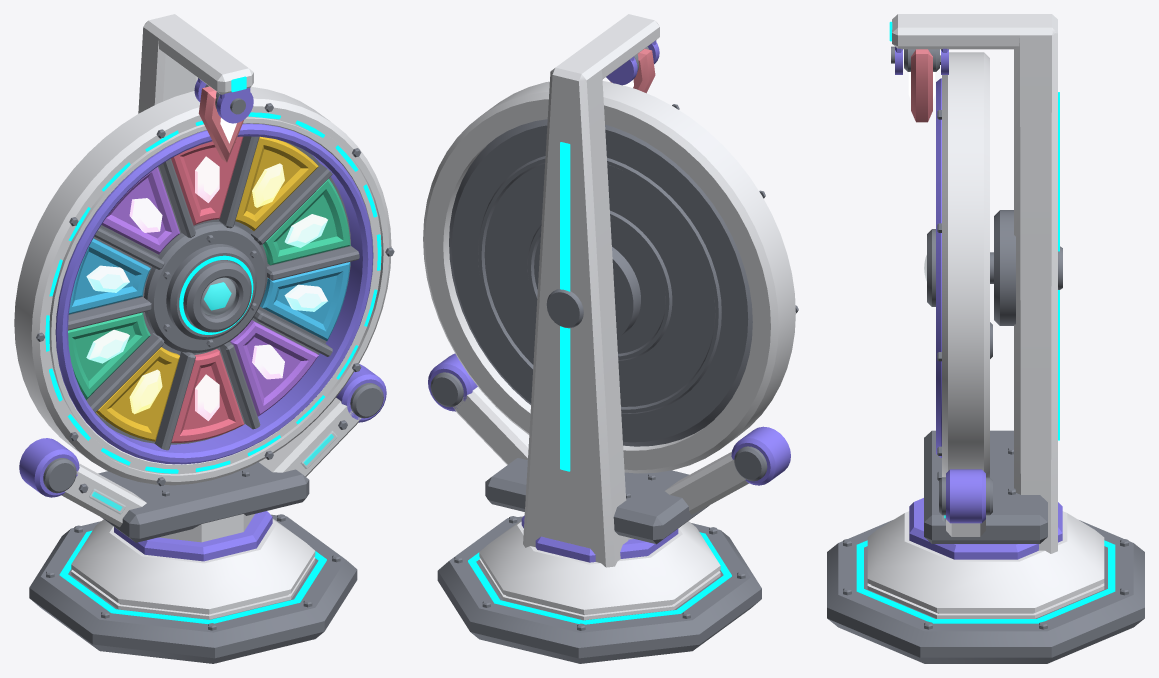
Rendered from PrizeWheel.glb.
The picture shows the model from 3 angles, left to right: view 1: azimuth 30°, elevation 25°; view 2: azimuth 150°, elevation 25°; view 3: azimuth 270°, elevation 25°; orthographic projection. The views are drawn at different scales.
Parts seen in each view (by area): view 1: Wheel_Rim, Base_Body, Wheel_Frame, Base_Metal, Wheel_Accent, Base_Accent, Wheel_LED, Segment_05, Segment_04, Segment_06, Segment_03, Segment_07 (+19 smaller); view 2: Base_Body, Wheel_Frame, Wheel_Rim, Base_Metal, Base_LED, Base_Accent, Pointer_Body; view 3: Base_Body, Base_Metal, Wheel_Rim, Base_Accent, Base_LED, Wheel_Accent, Pointer_Body, Wheel_Frame.
Part boxes in pixels (left/top/right/bottom): Wheel_Rim: left=14, top=86, right=391, bottom=485; Base_Body: left=61, top=14, right=361, bottom=619; Wheel_Frame: left=36, top=103, right=394, bottom=486; Base_Metal: left=29, top=98, right=383, bottom=663; Wheel_Accent: left=55, top=123, right=373, bottom=464; Base_Accent: left=19, top=78, right=386, bottom=561; Wheel_LED: left=45, top=112, right=381, bottom=473; Segment_05: left=230, top=320, right=318, bottom=416; Segment_04: left=260, top=262, right=350, bottom=340; Segment_06: left=171, top=349, right=244, bottom=442; Segment_03: left=263, top=178, right=350, bottom=265; Segment_07: left=96, top=347, right=179, bottom=441; Base_Body: left=453, top=14, right=748, bottom=620; Wheel_Frame: left=449, top=104, right=798, bottom=446; Wheel_Rim: left=423, top=81, right=795, bottom=473; Base_Metal: left=430, top=247, right=767, bottom=663; Base_LED: left=468, top=142, right=731, bottom=624; Base_Accent: left=428, top=40, right=790, bottom=562; Pointer_Body: left=610, top=48, right=655, bottom=93; Base_Body: left=867, top=14, right=1104, bottom=618; Base_Metal: left=827, top=46, right=1144, bottom=663; Wheel_Rim: left=942, top=52, right=989, bottom=477; Base_Accent: left=895, top=47, right=1062, bottom=559; Base_LED: left=856, top=21, right=1115, bottom=623; Wheel_Accent: left=936, top=78, right=941, bottom=457; Pointer_Body: left=911, top=49, right=932, bottom=122; Wheel_Frame: left=927, top=55, right=993, bottom=480.
Bounding box in the file's own units: 15.12 × 22.43 × 11.12.
